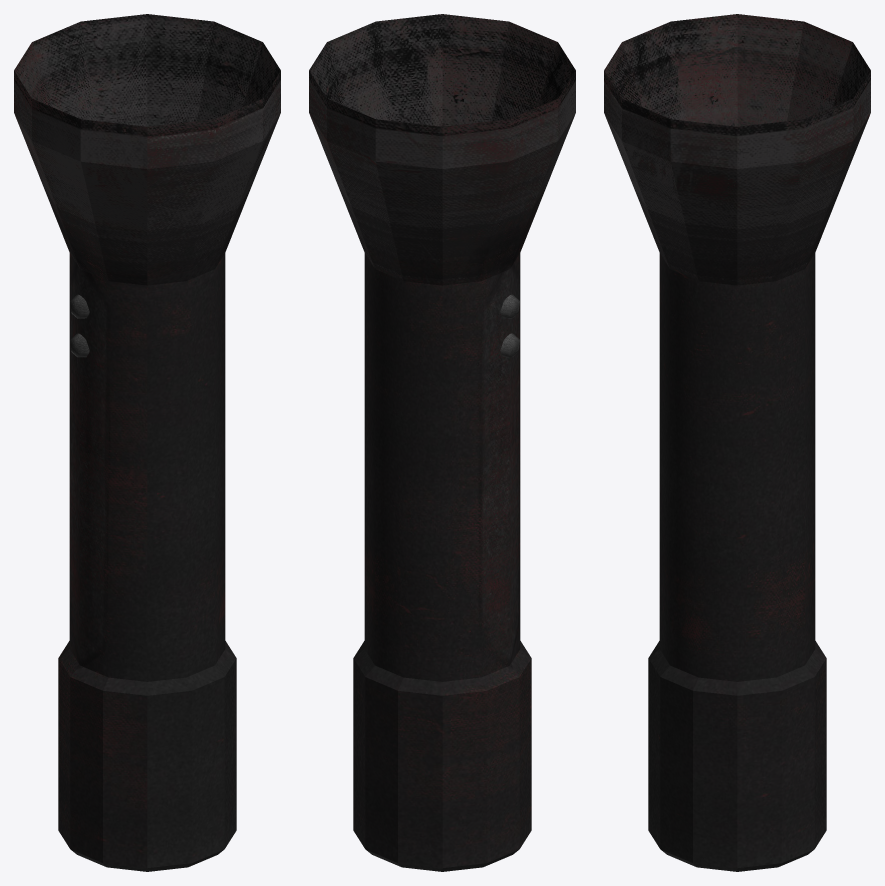
The model's file is LALAMPE.fbx.
3 views of the same model, side by side, from view 1: azimuth 30°, elevation 25°; view 2: azimuth 150°, elevation 25°; view 3: azimuth 270°, elevation 25° (orthographic).
Visible parts, largest first — view 1: Cylinder002, Box001; view 2: Cylinder002, Box001; view 3: Cylinder002.
Part boxes in pixels (x1,y1,x2,y2): Cylinder002: (14, 14, 280, 871); Box001: (70, 294, 89, 357); Cylinder002: (309, 14, 575, 871); Box001: (500, 294, 519, 357); Cylinder002: (604, 14, 870, 871).
Bounding box in the file's own units: 16.04 × 50.87 × 16.04.
